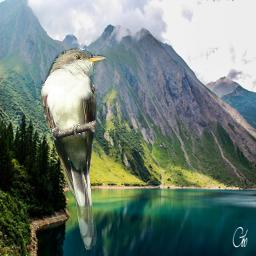Cuckoo: (41, 47, 107, 251)
